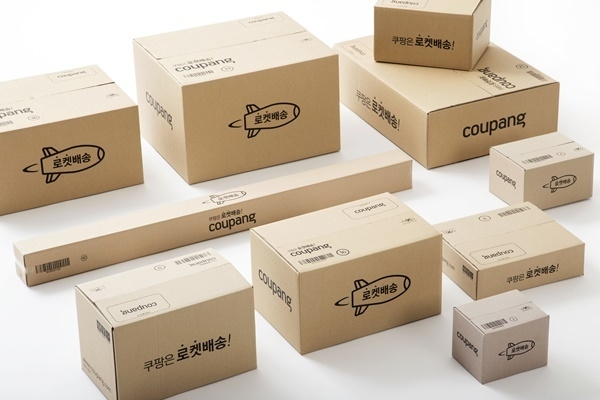undamaged: (16, 0, 596, 399), (132, 7, 347, 186), (0, 59, 146, 224)
